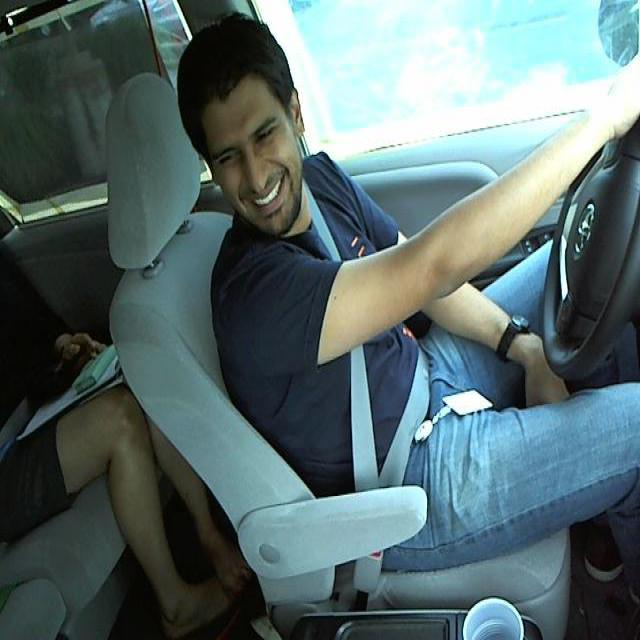seatbelt: (309, 228, 428, 487)
